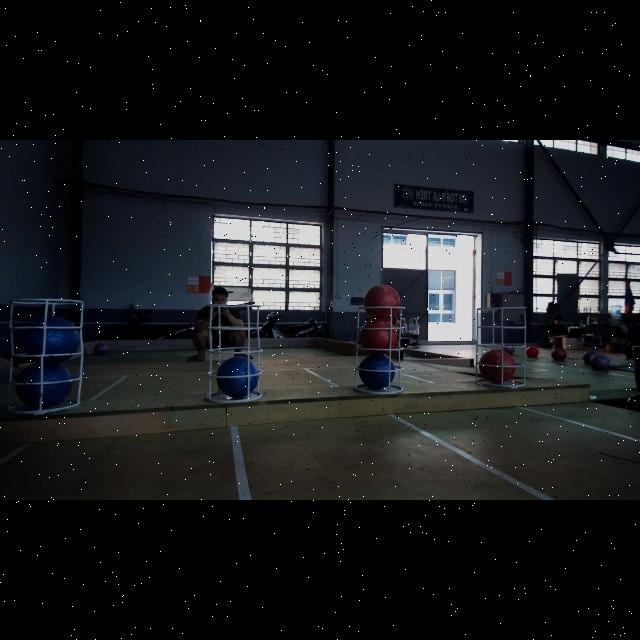B: (17, 362, 72, 408), (26, 316, 80, 362), (216, 357, 258, 398), (358, 354, 396, 390)
R: (360, 320, 398, 354), (479, 350, 515, 384), (364, 285, 400, 319)
